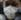with_mask: (2, 1, 21, 20)
